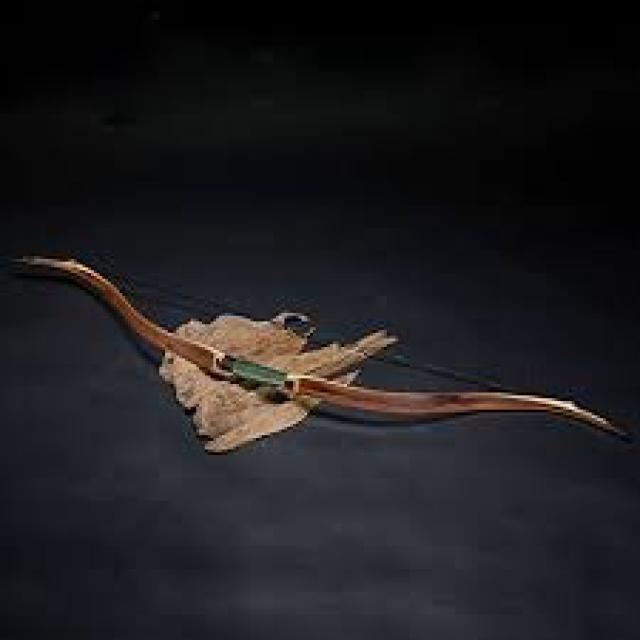X-Bow: (2, 250, 630, 450)
